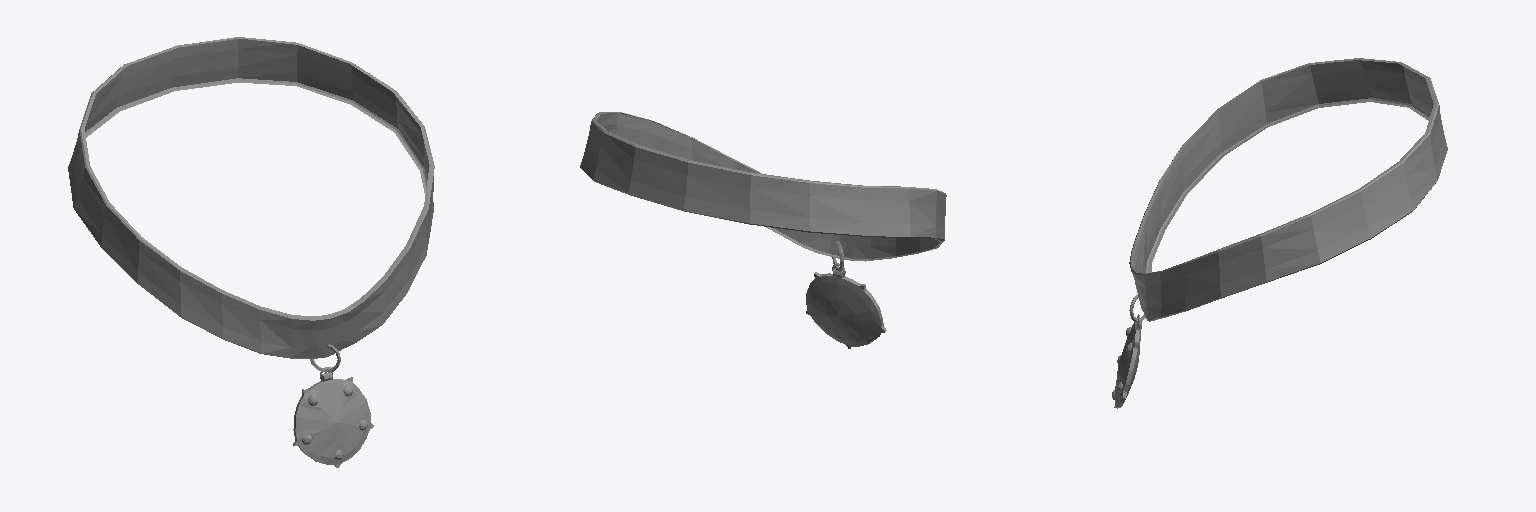
File: pendant.obj
The picture shows the model from 3 angles: view 1: azimuth 30°, elevation 25°; view 2: azimuth 150°, elevation 25°; view 3: azimuth 270°, elevation 25°; orthographic projection.
Visible parts, largest first — view 1: grp1, grp003; view 2: grp1, grp003; view 3: grp1, grp003.
Part boxes in pixels (left/top/right/bottom): grp1: left=68, top=37, right=434, bottom=358; grp003: left=293, top=367, right=373, bottom=467; grp1: left=580, top=112, right=946, bottom=261; grp003: left=806, top=263, right=886, bottom=348; grp1: left=1129, top=58, right=1447, bottom=321; grp003: left=1112, top=314, right=1141, bottom=408.
Size of the model in its own units: 0.1036 by 0.093 by 0.0927.